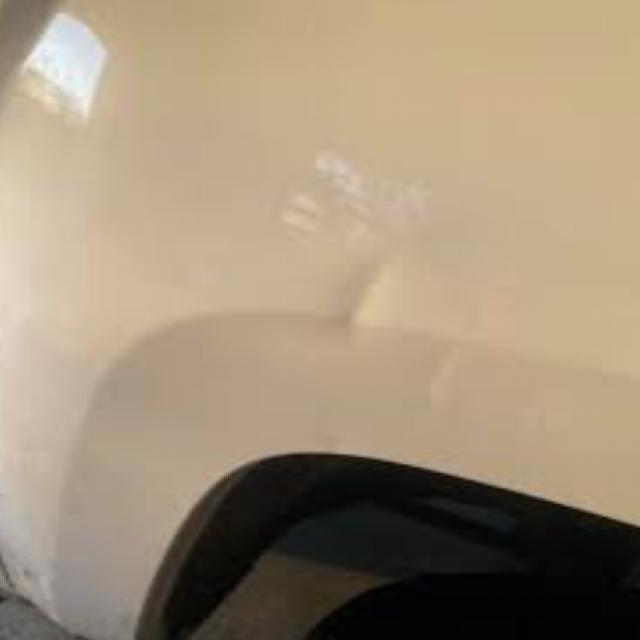dents: (324, 252, 419, 366)
